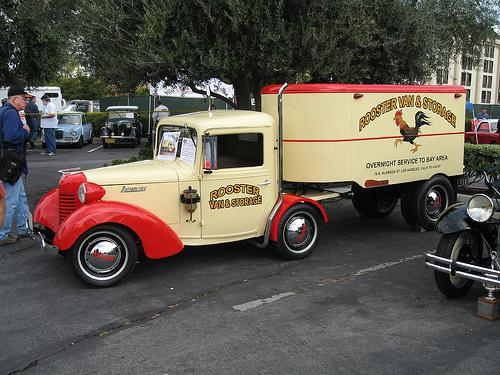truck: (24, 82, 467, 289)
